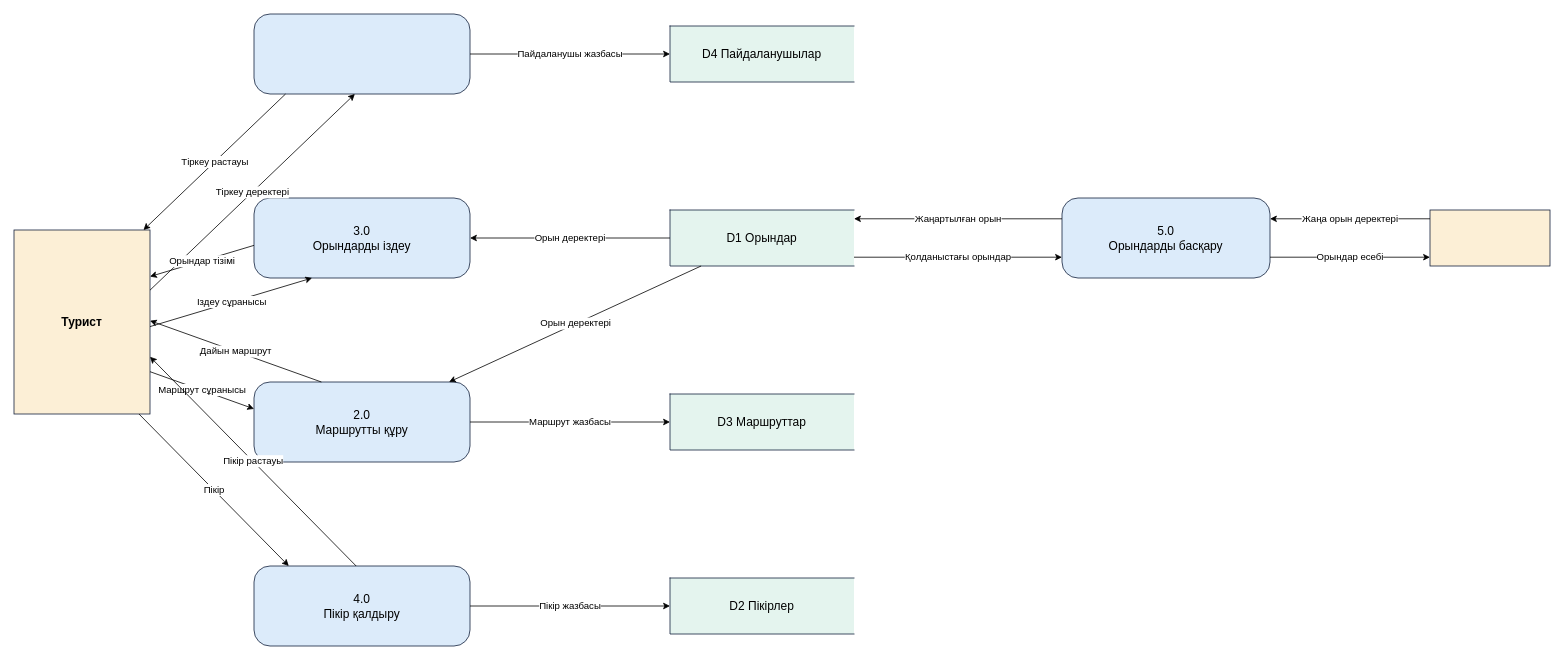
This 1564x660 diagram has some shape labels left out. The centre of each missing label's shape, as x and y in pixels:
1.0 Пайдаланушыны тіркеу: (x=361, y=53)
Әкімші: (x=1489, y=237)
